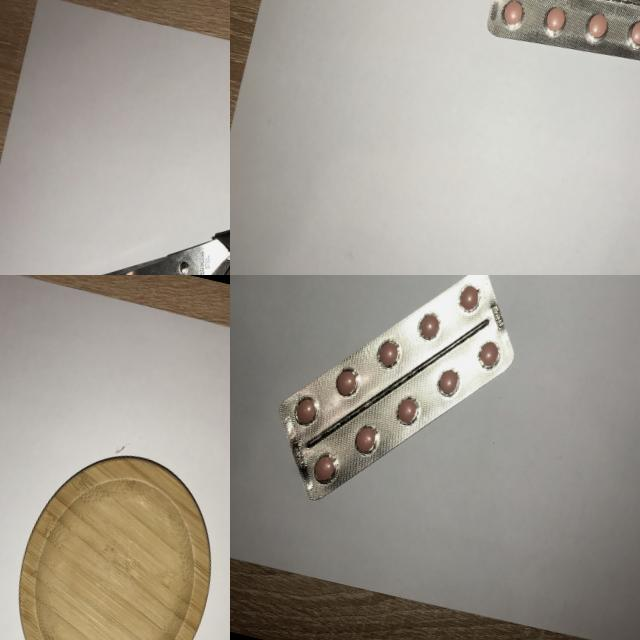cup_holder: (0, 425, 230, 640)
scissors: (31, 88, 230, 275)
tablets: (257, 275, 539, 547), (471, 0, 640, 88)
